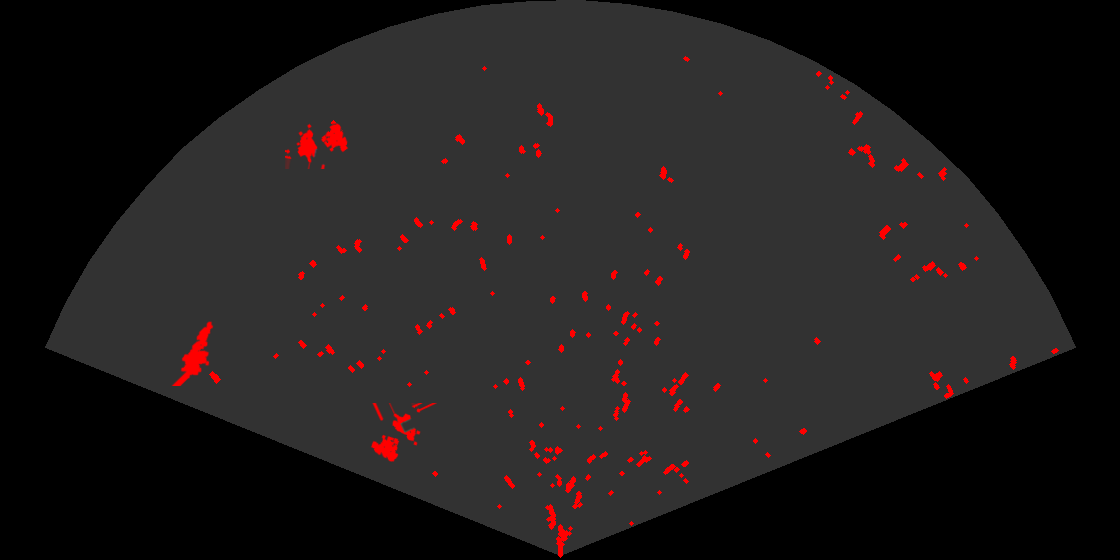cage: (369, 403, 437, 463), (285, 122, 350, 169)
frogman: (170, 320, 215, 386)
